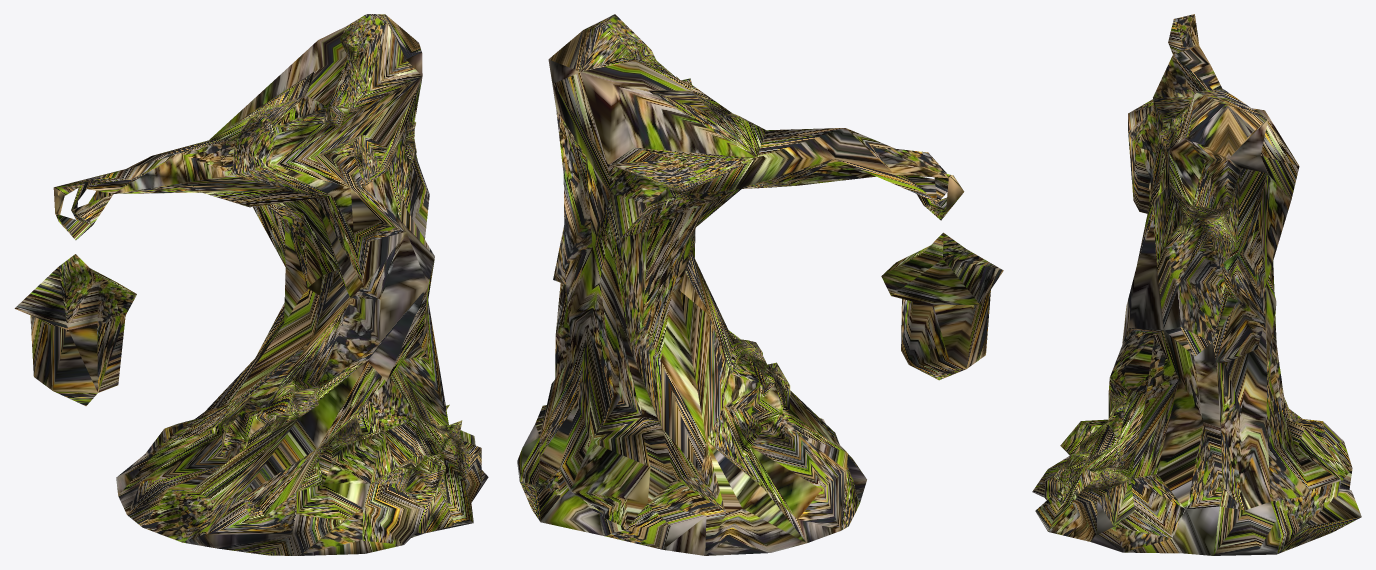
The model's file is Enchanted_Lantern_Tre.glb.
3 views of the same model, side by side, from view 1: azimuth 30°, elevation 25°; view 2: azimuth 150°, elevation 25°; view 3: azimuth 270°, elevation 25° (orthographic). The views are drawn at different scales.
Parts seen in each view (by area): view 1: Enchanted_Lantern_Tre; view 2: Enchanted_Lantern_Tre; view 3: Enchanted_Lantern_Tre.
Boxes of the visible parts, bbox=[...] form: Enchanted_Lantern_Tre: bbox=[14, 14, 488, 555]; Enchanted_Lantern_Tre: bbox=[517, 14, 1003, 555]; Enchanted_Lantern_Tre: bbox=[1032, 14, 1361, 555].
Bounding box in the file's own units: 1.89 × 1.85 × 1.26.
1 material, 1 textured.
